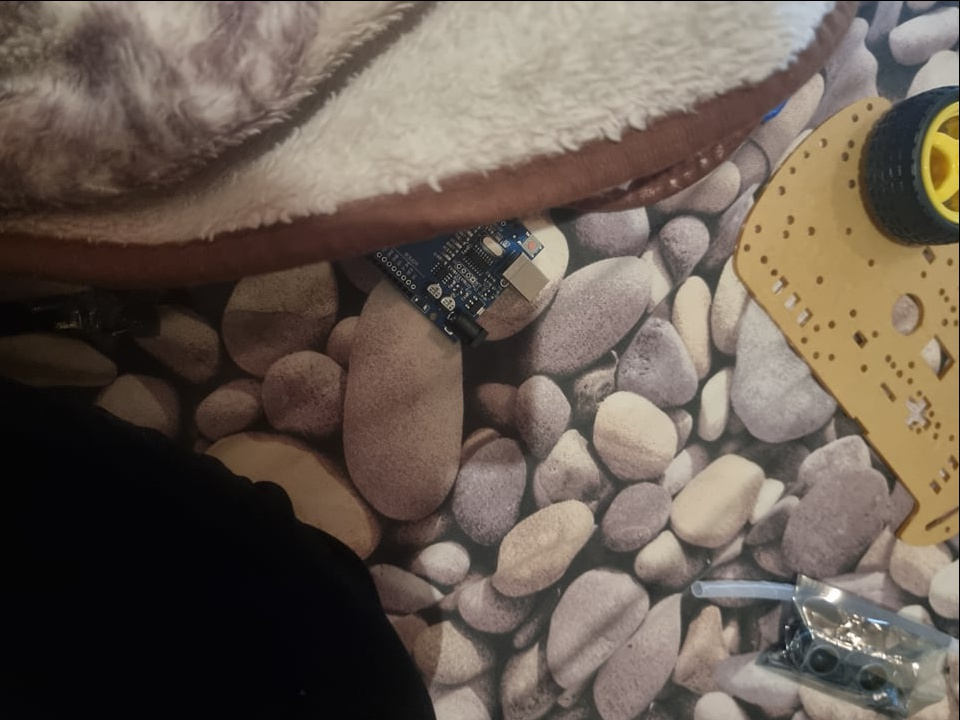5V EXPANSION: (364, 211, 548, 348)
SENSOR: (795, 627, 899, 697)
